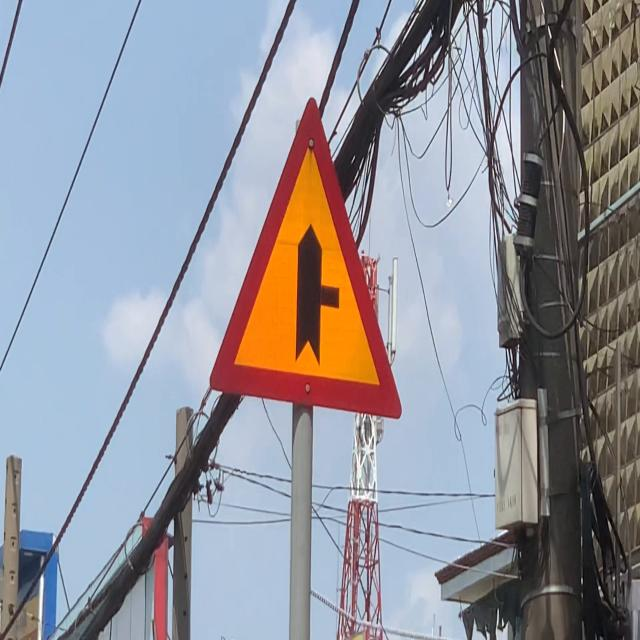Giao voi duong khong uu tien: (201, 84, 408, 432)
